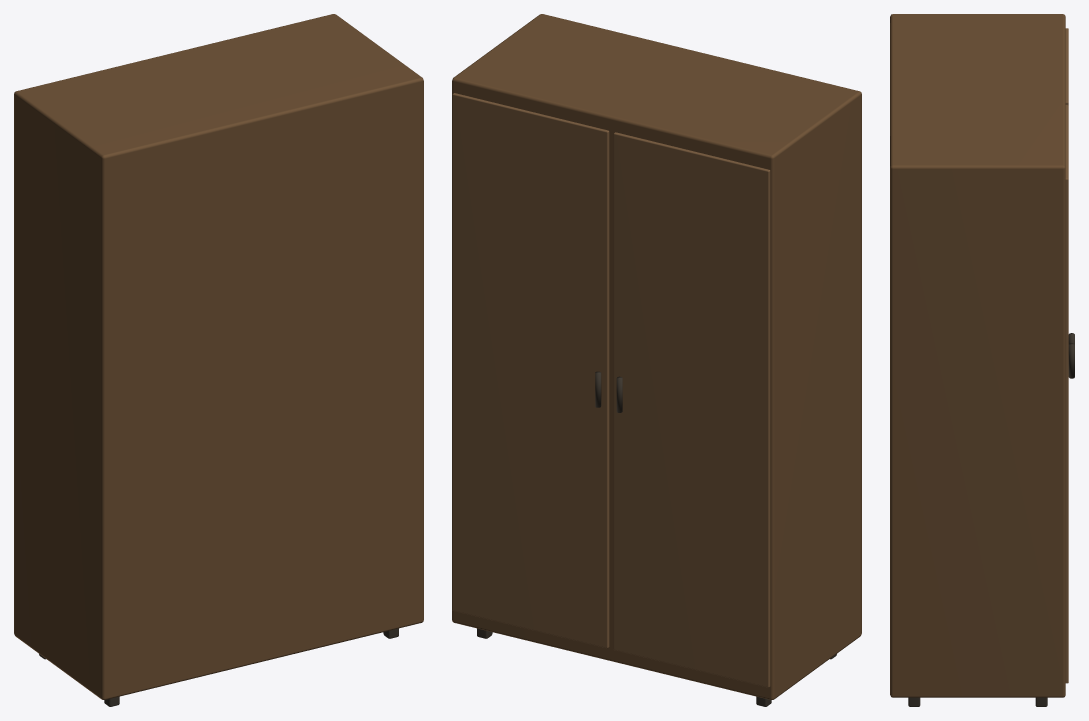
The model's file is wardrobe.glb.
3 views of the same model, side by side, from view 1: azimuth 30°, elevation 25°; view 2: azimuth 150°, elevation 25°; view 3: azimuth 270°, elevation 25° (orthographic). The views are drawn at different scales.
Parts seen in each view (by area): view 1: body; view 2: body; view 3: body.
Part boxes in pixels (x1=…): body: x1=14, y1=14, x2=423, y2=706; body: x1=452, y1=14, x2=861, y2=706; body: x1=890, y1=14, x2=1074, y2=706.
Size of the model in its own units: 1.2 by 2 by 0.61.
